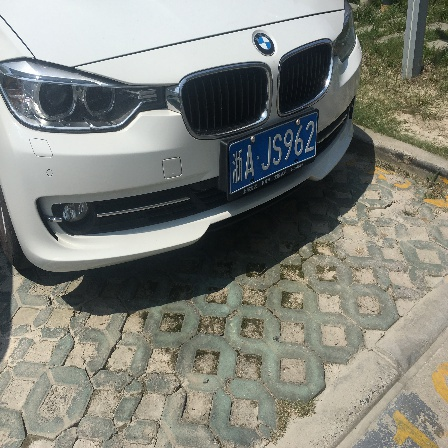plate: (223, 118, 323, 188)
